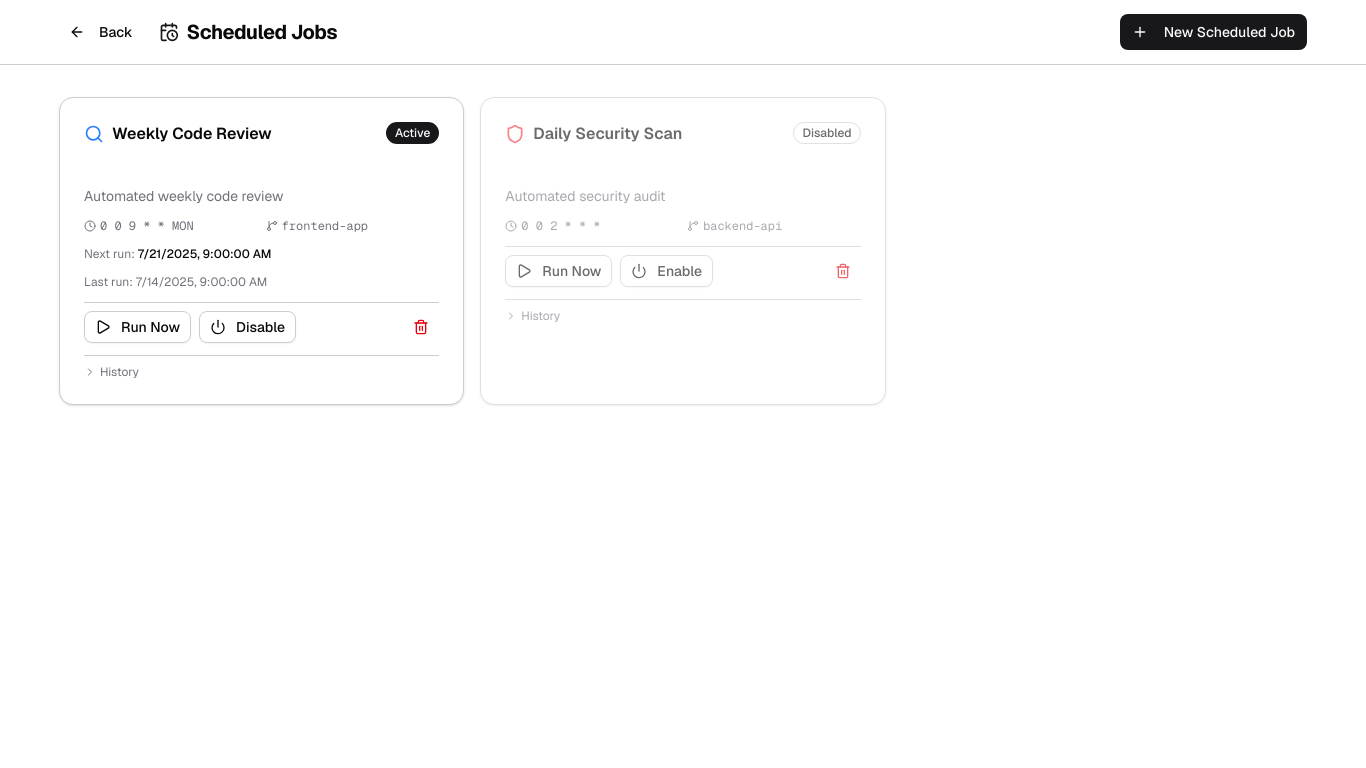
Test case: ScheduledJobsPage › should open the create dialog when button is clicked
The image size is (1366, 768).
Click the button "New Scheduled Job": (1213, 32) 1120,14 -> 1307,50
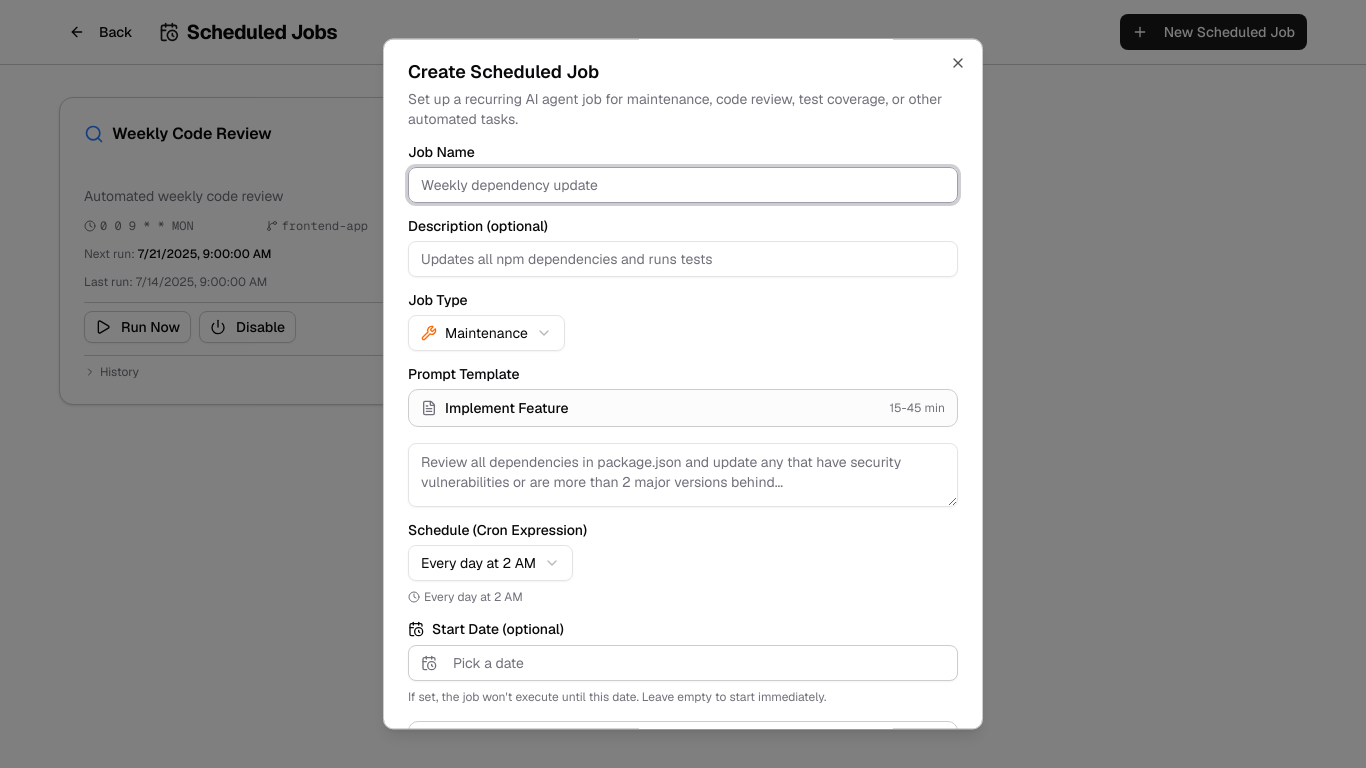
Expected: the heading "Create Scheduled Job" is shown, 408,60 -> 599,83
